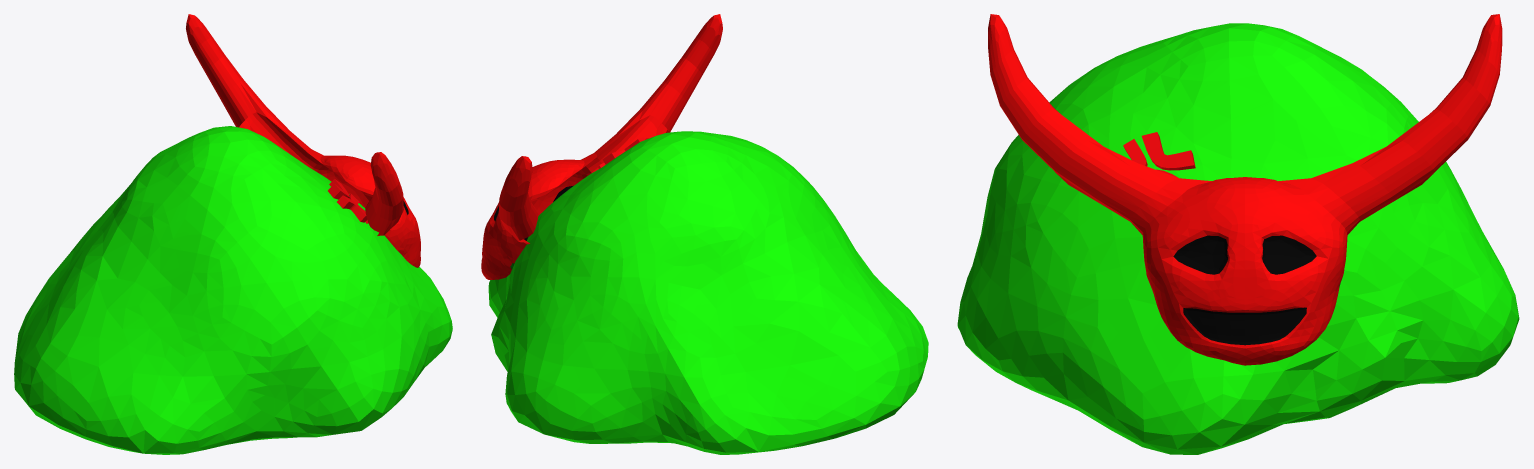
The model's file is SlimeMask1.fbx.
The picture shows the model from 3 angles, left to right: view 1: azimuth 30°, elevation 25°; view 2: azimuth 150°, elevation 25°; view 3: azimuth 270°, elevation 25°; orthographic projection. The views are drawn at different scales.
Parts seen in each view (by area): view 1: SLIME; view 2: SLIME; view 3: SLIME.
Part boxes in pixels (left/top/right/bottom): SLIME: left=14, top=14, right=452, bottom=454; SLIME: left=481, top=14, right=928, bottom=454; SLIME: left=957, top=14, right=1519, bottom=454.
Bounding box in the file's own units: 111 × 73.99 × 100.
